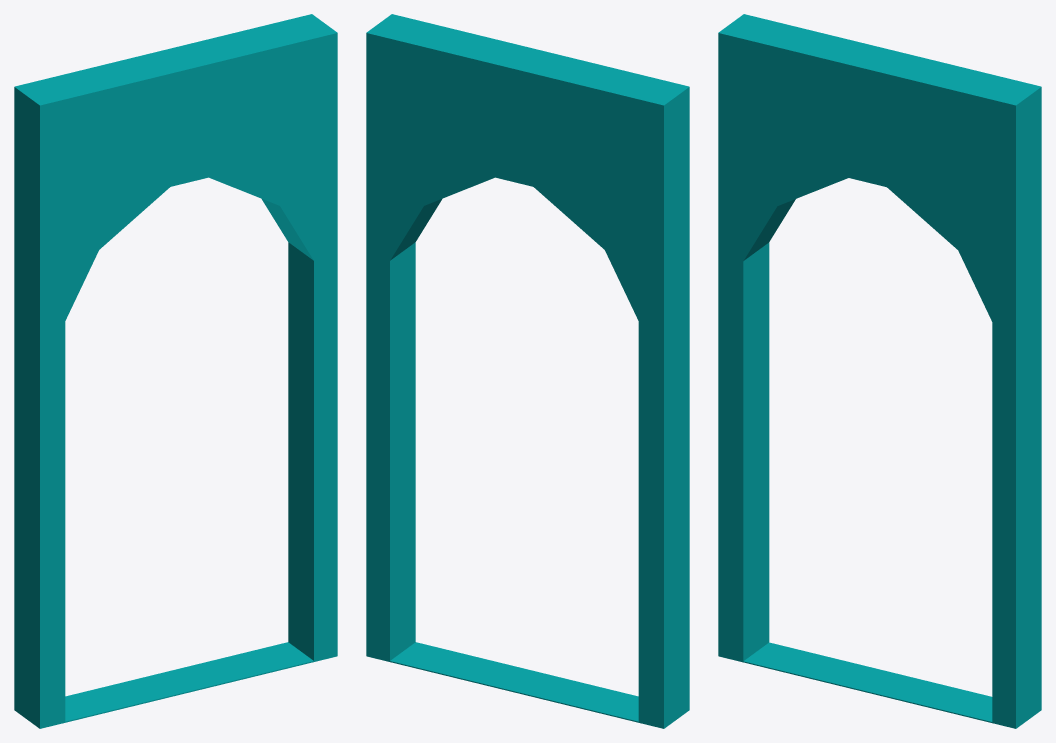
File: TurquoiseDoorframe.glb
The picture shows the model from 3 angles, left to right: view 1: azimuth 30°, elevation 25°; view 2: azimuth 150°, elevation 25°; view 3: azimuth 330°, elevation 25°; orthographic projection.
Parts seen in each view (by area): view 1: wall_turquoise_door; view 2: wall_turquoise_door; view 3: wall_turquoise_door.
Part boxes in pixels (x1,y1,x2,y2): wall_turquoise_door: (14,14,337,728); wall_turquoise_door: (366,14,689,728); wall_turquoise_door: (718,14,1041,728).
Size of what is drawn, in the model's own units: 2 by 4 by 0.3.
Materials: 1 (1 with a texture image).
